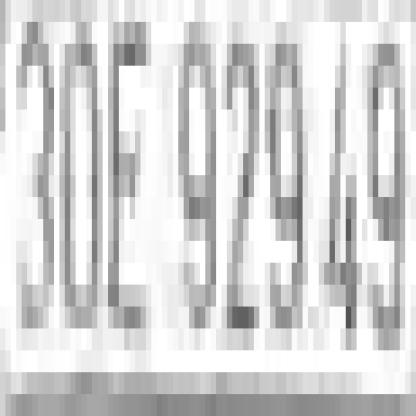0: (54, 22, 103, 306)
2: (216, 44, 254, 328)
3: (16, 22, 54, 328)
4: (318, 44, 356, 306)
9: (260, 44, 302, 328), (362, 44, 400, 328), (178, 44, 211, 328)
E: (108, 22, 151, 328)
